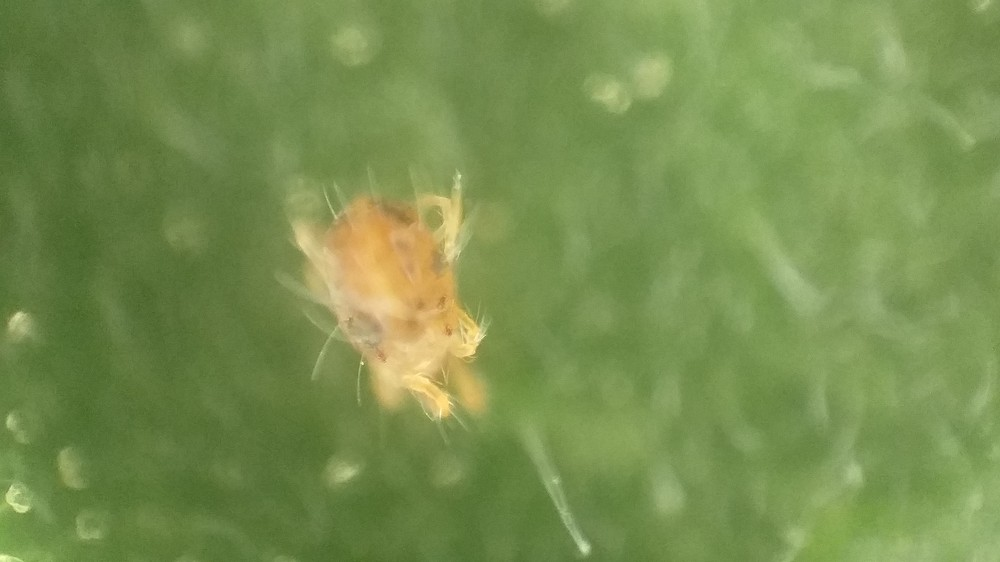Aracnido Rojo: (266, 163, 524, 450)
